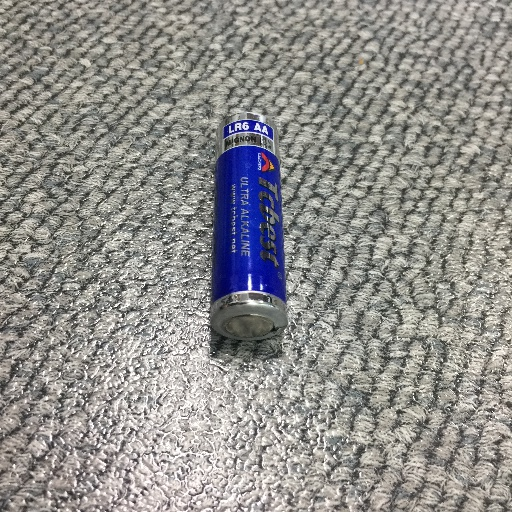Battery_0: (192, 95, 308, 363)
